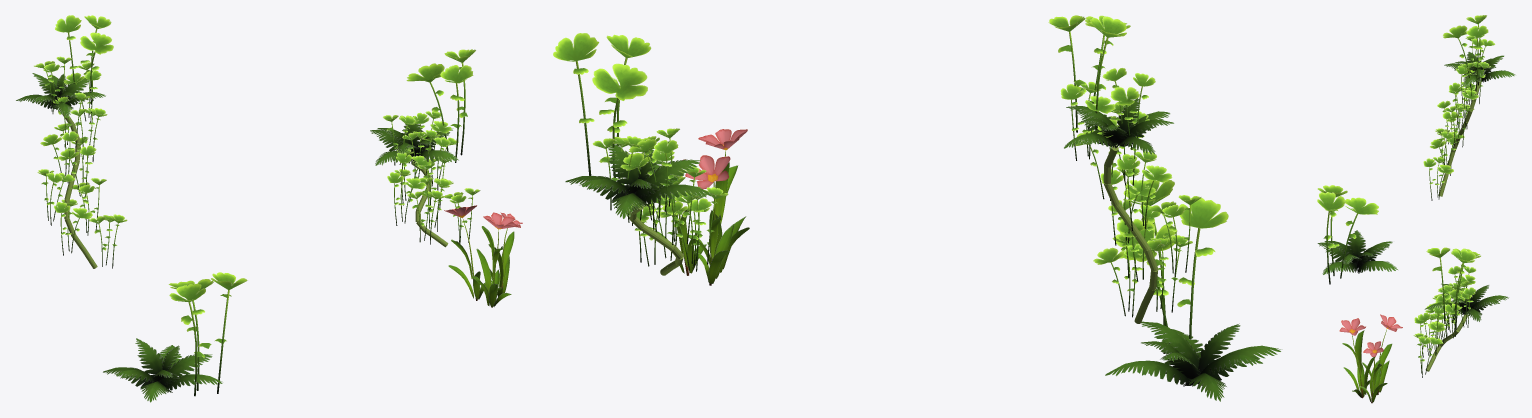
File: C_Salvaged_Bench_Greenery.glb
3 renders of one model, left to right at view 1: azimuth 30°, elevation 25°; view 2: azimuth 150°, elevation 25°; view 3: azimuth 270°, elevation 25°, orthographic. The views are drawn at different scales.
Visible parts, largest first — view 1: Patch_00, Patch_01, Patch_02, Patch_03; view 2: Patch_00, Patch_01, Patch_02, Patch_03; view 3: Patch_00, Patch_01, Patch_02, Patch_03.
Part boxes in pixels (left/top/right/bottom): Patch_00: left=16, top=15, right=127, bottom=268; Patch_01: left=370, top=49, right=480, bottom=247; Patch_02: left=103, top=272, right=247, bottom=402; Patch_03: left=444, top=205, right=522, bottom=307; Patch_00: left=1048, top=15, right=1201, bottom=323; Patch_01: left=553, top=33, right=728, bottom=275; Patch_02: left=1105, top=179, right=1282, bottom=401; Patch_03: left=654, top=129, right=749, bottom=285; Patch_00: left=1423, top=15, right=1515, bottom=200; Patch_01: left=1413, top=247, right=1509, bottom=377; Patch_02: left=1317, top=185, right=1398, bottom=284; Patch_03: left=1339, top=314, right=1402, bottom=403.
Bounding box in the file's own units: 2.77 × 1.9 × 1.4.
5 materials, 4 textured.
